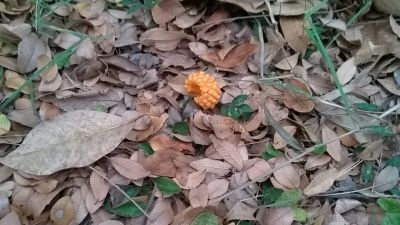eggs: (183, 70, 222, 110)
